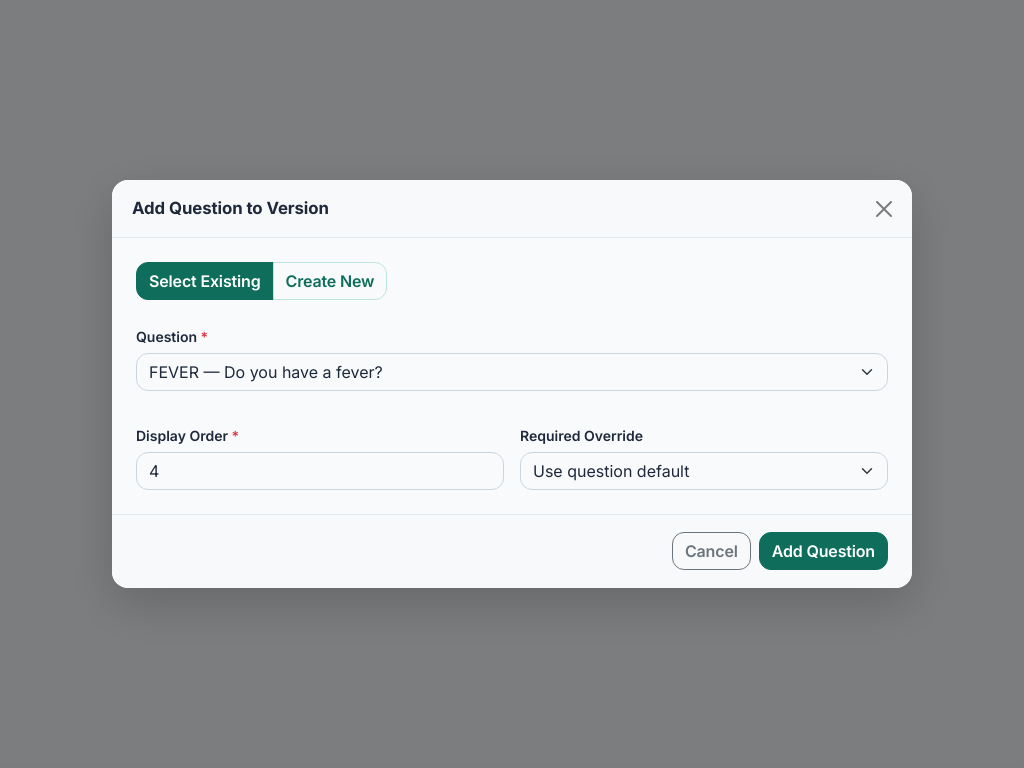
it: AddQuestionnaireItemModal › validates metadata and clears mode-specific errors when switching modes
Step 1. Click the button "Create New" → (330, 281), box [272, 262, 387, 300]
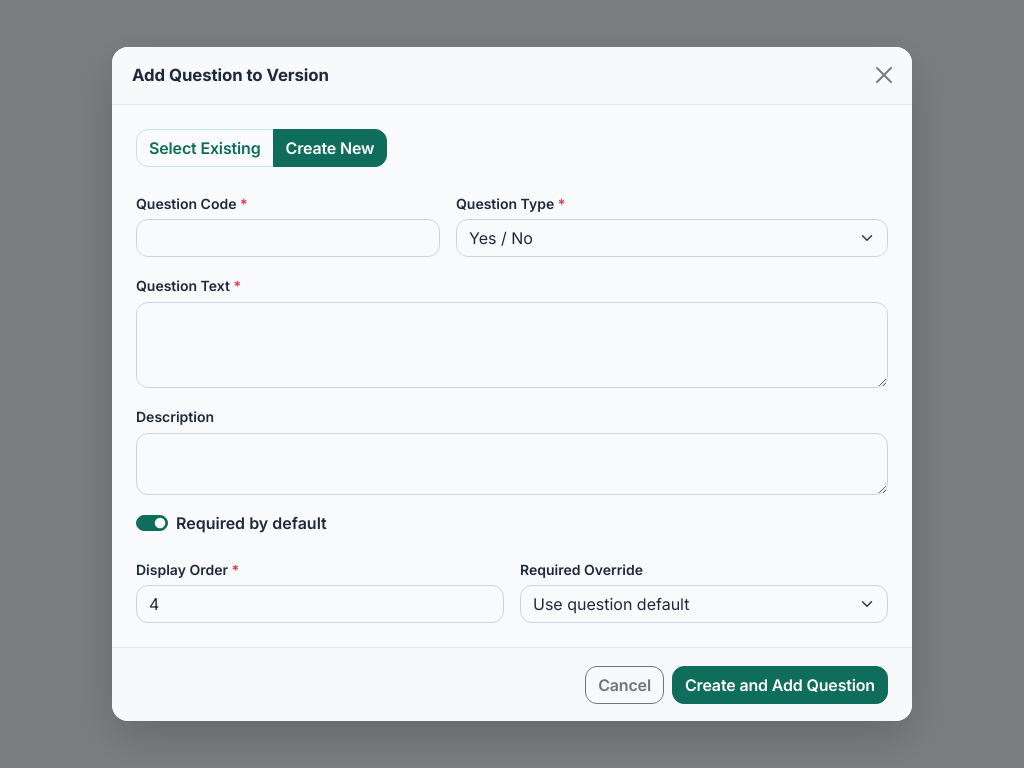
Step 2. Click the button "Create and Add Question" → (780, 685), box [672, 666, 888, 704]
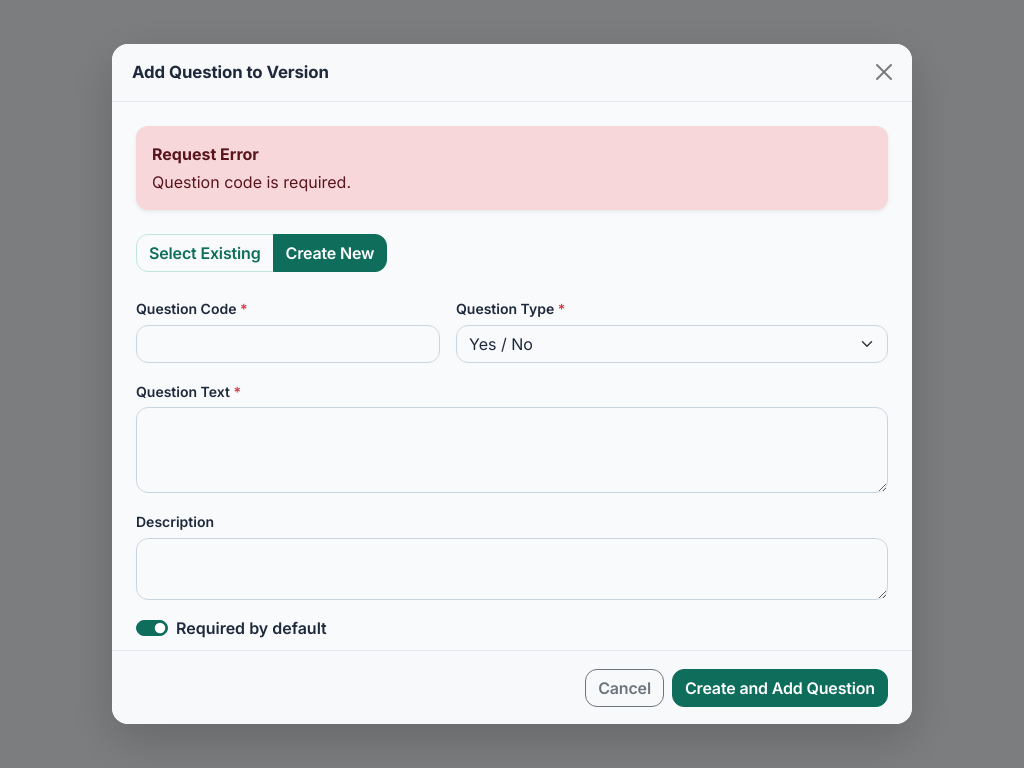
Now the message shows "Question code is required", box [152, 172, 351, 192]
Step 3. Click the button "Select Existing" → (205, 253), box [136, 234, 274, 272]
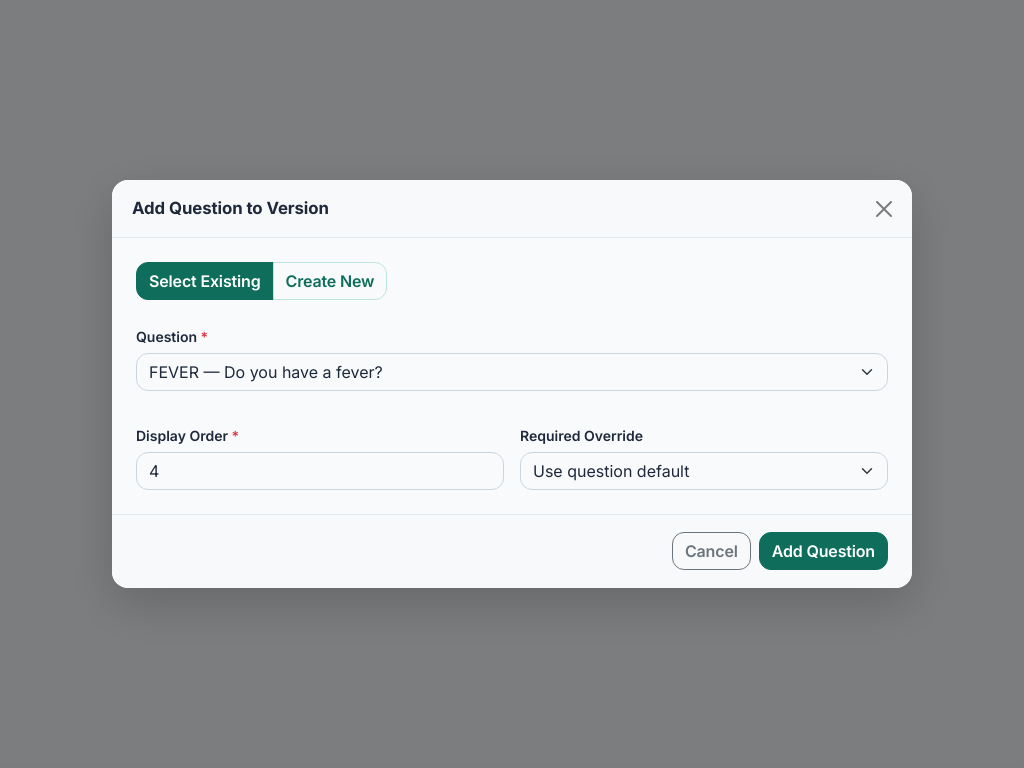
Now the message "Request Error Question code is required." is gone
